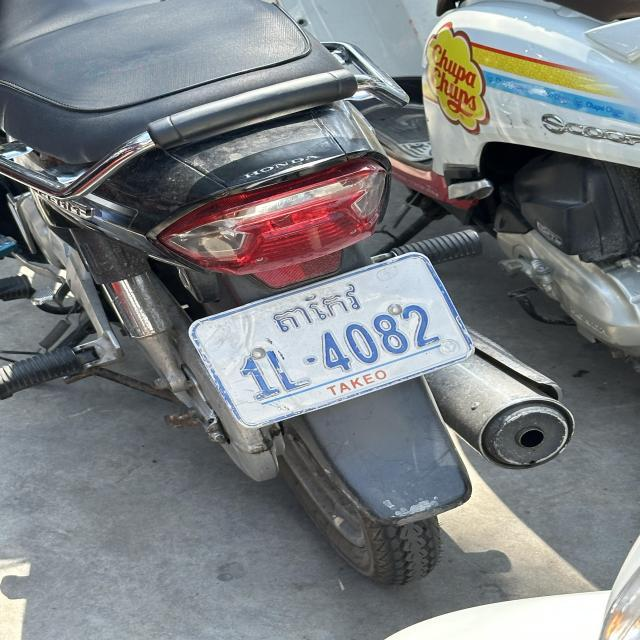Takeo: (271, 280, 366, 333)
